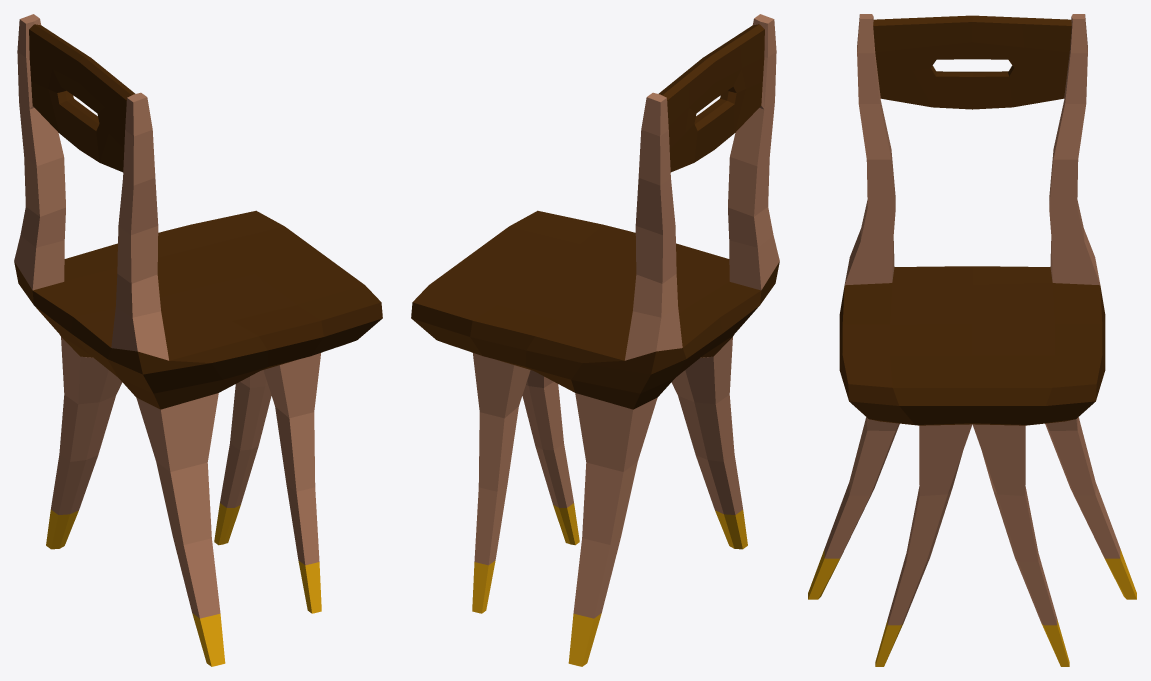
File: Light_Chair_Model.fbx
The picture shows the model from 3 angles, left to right: view 1: azimuth 30°, elevation 25°; view 2: azimuth 150°, elevation 25°; view 3: azimuth 270°, elevation 25°; orthographic projection.
Visible parts, largest first — view 1: 2_Chair; view 2: 2_Chair; view 3: 2_Chair.
Part boxes in pixels (bbox=[...]): 2_Chair: bbox=[14, 14, 382, 666]; 2_Chair: bbox=[411, 14, 779, 666]; 2_Chair: bbox=[808, 14, 1136, 666].
Size of the model in its own units: 109 by 205 by 98.83.
